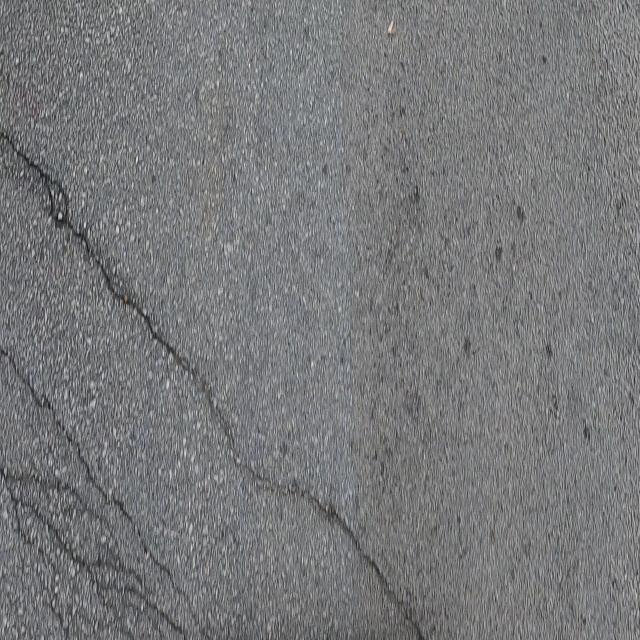Retak-Buaya: (1, 456, 191, 637)
Retak-Melintang: (0, 119, 439, 640), (0, 340, 193, 611)
